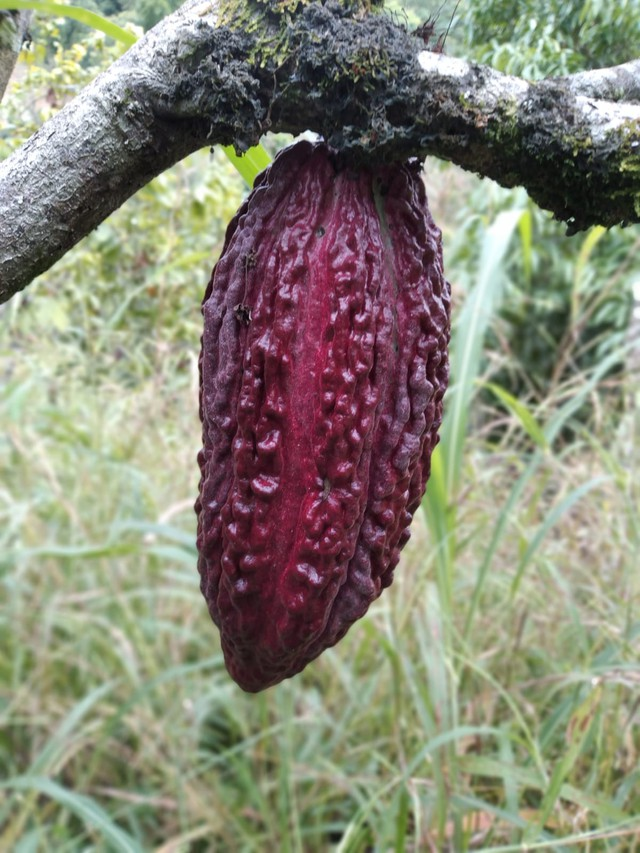Health: (177, 109, 468, 717)
